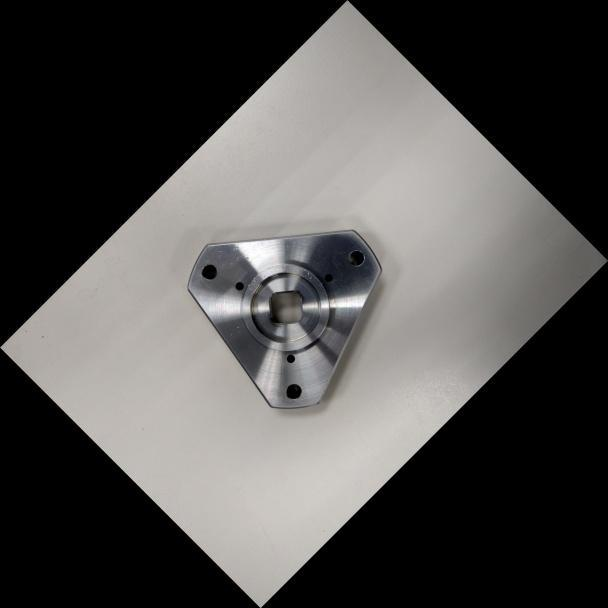hole: (279, 376, 307, 405), (342, 243, 370, 271), (195, 257, 222, 285), (319, 268, 337, 286), (282, 350, 298, 366), (231, 277, 247, 293)
